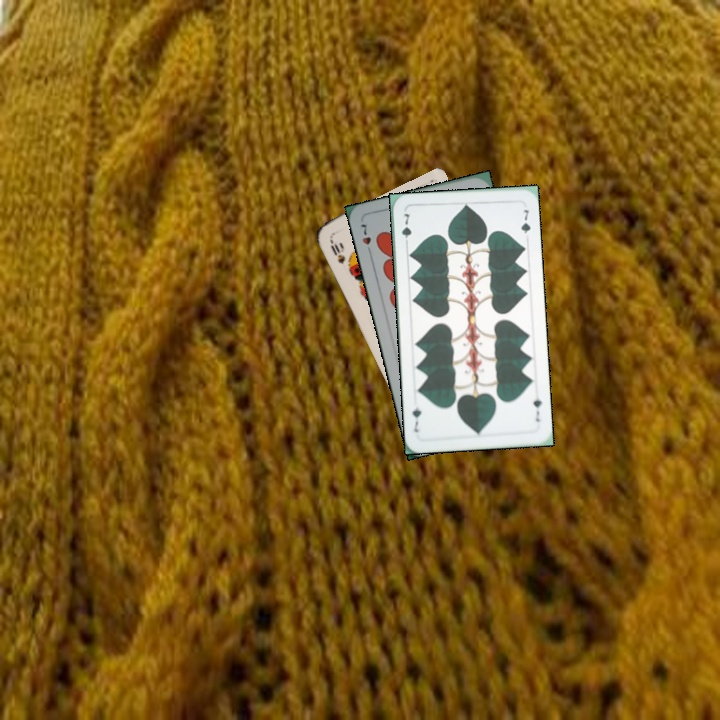G7: (397, 209, 414, 249), (529, 394, 544, 424)
H7: (357, 220, 374, 258)
S10: (326, 233, 348, 267)
